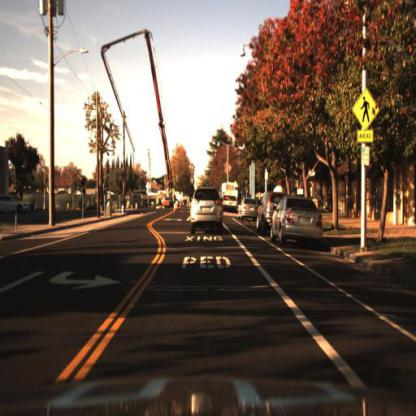car: (271, 194, 326, 254), (187, 187, 227, 236), (255, 192, 272, 234), (238, 198, 259, 222)
truck: (101, 28, 176, 211), (222, 179, 240, 214)
